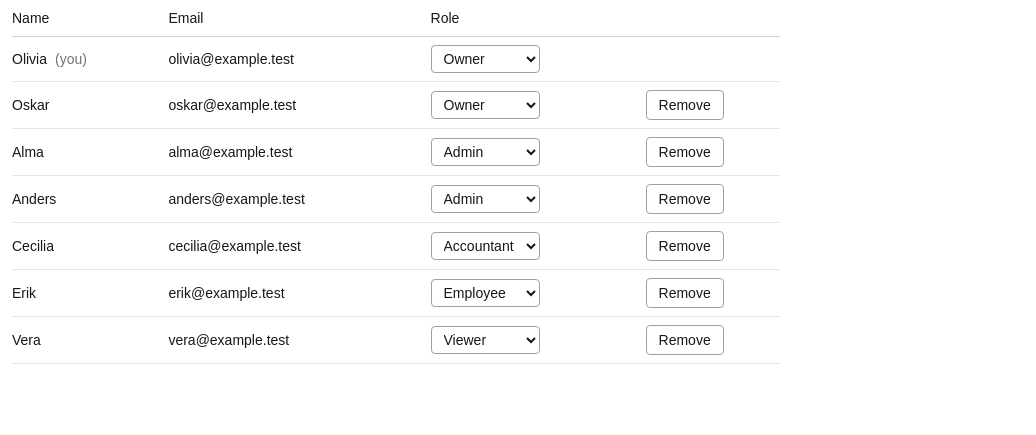
Test: MembersAdmin › a network failure is not shown as a success either
Select "Viewer" in the 2nd dropdown with test id "member-role" at (485, 105), box [430,91,540,119]
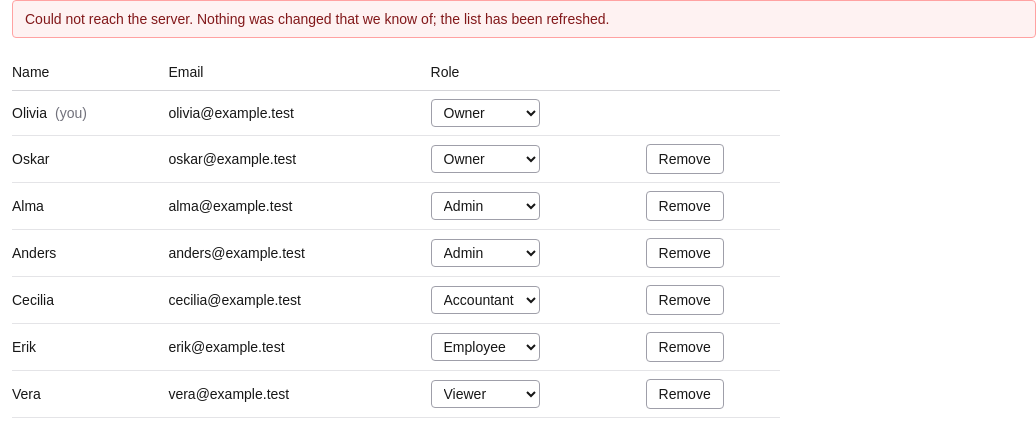
Result: the message with test id "members-message" shows "Could not reach the server" at [25,11,610,27]
